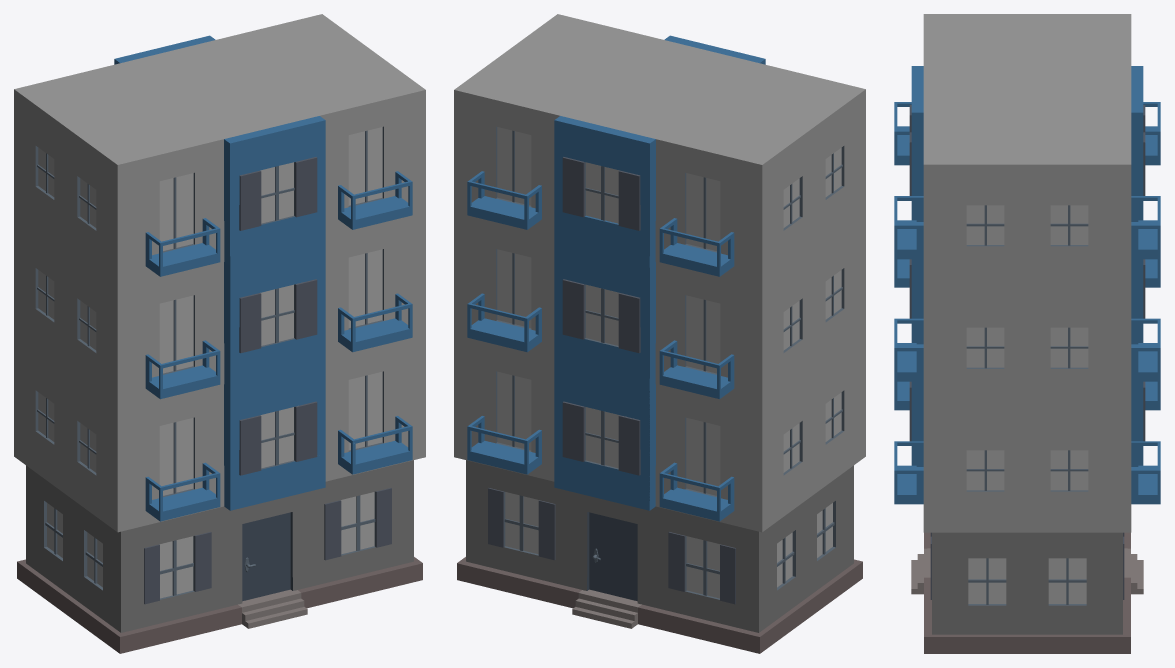
Rendered from FD-House Blue.fbx.
3 views of the same model, side by side, from view 1: azimuth 30°, elevation 25°; view 2: azimuth 150°, elevation 25°; view 3: azimuth 270°, elevation 25° (orthographic).
Visible parts, largest first — view 1: immeuble; view 2: immeuble; view 3: immeuble.
Boxes of the visible parts, bbox=[...] form: immeuble: bbox=[14, 14, 425, 653]; immeuble: bbox=[454, 14, 865, 653]; immeuble: bbox=[894, 14, 1160, 653].
Size of the model in its own units: 4482 by 6804 by 3346.
